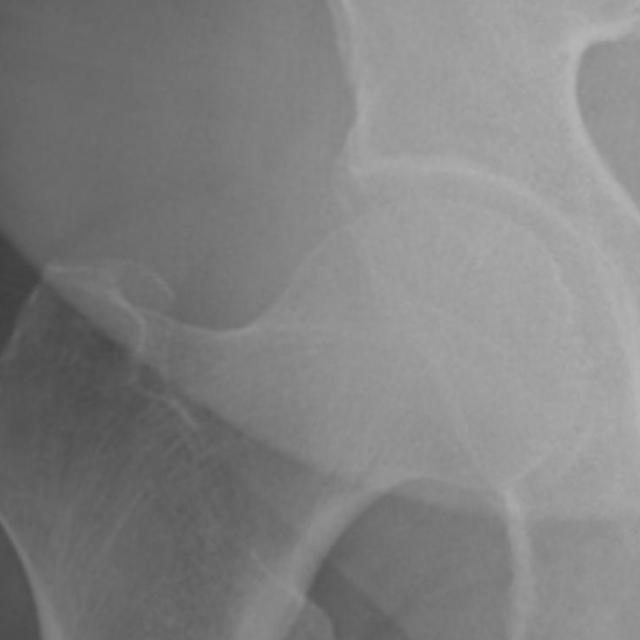Fitted_femural_head: (311, 198, 432, 311)
